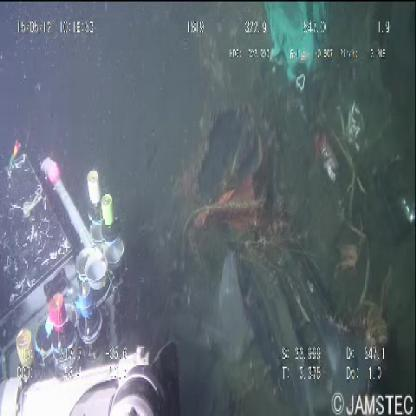Rác: (256, 0, 335, 102)
